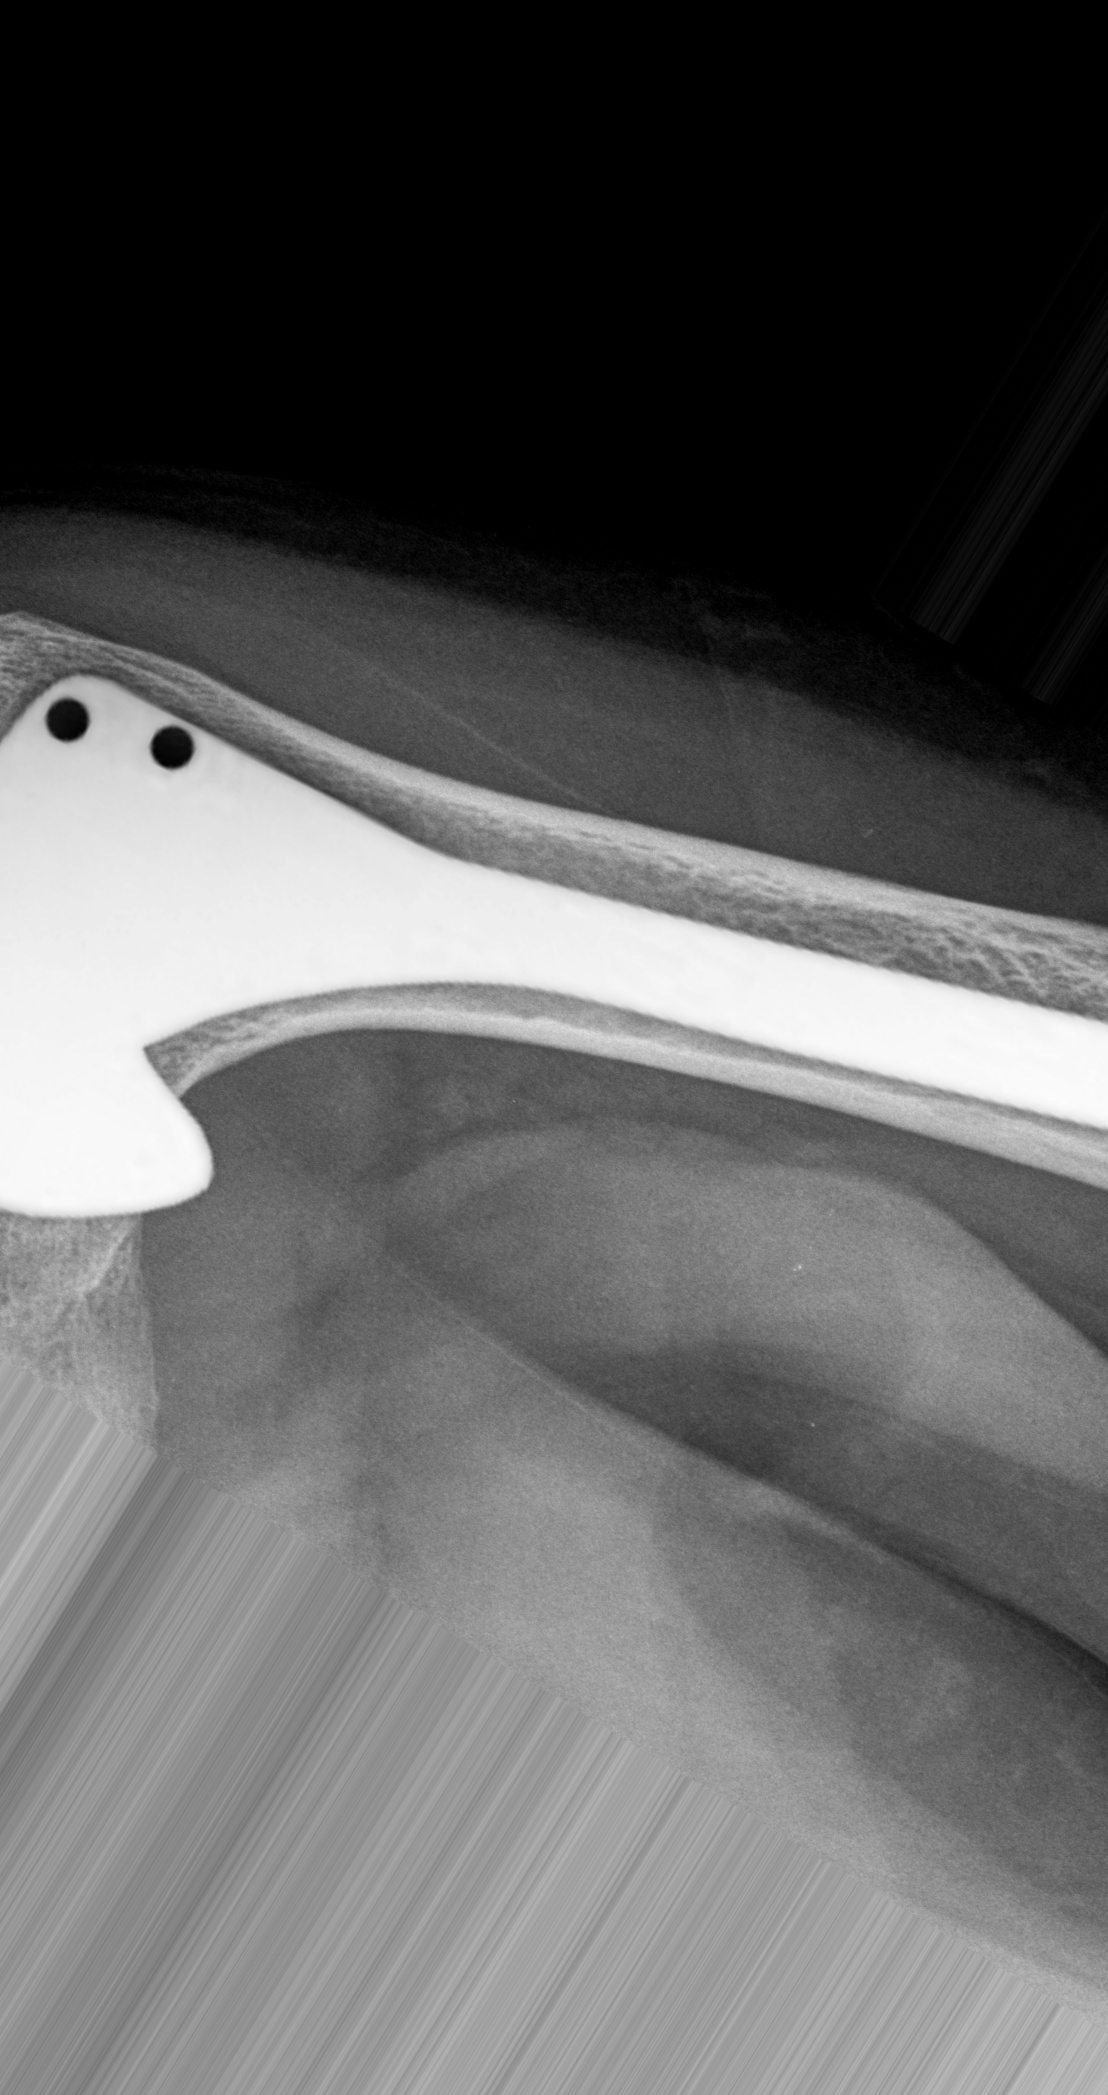Shoulder - Aequalistail - Tornier: (1, 668, 496, 1144)
